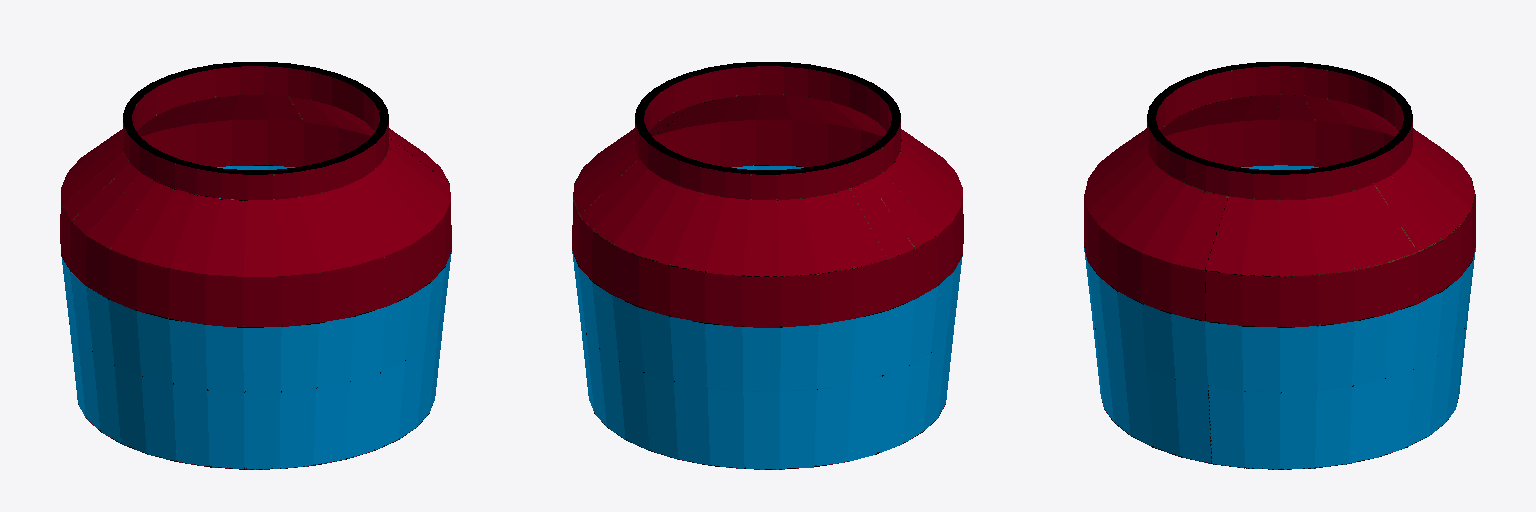
3 views of the same model, side by side, from view 1: azimuth 30°, elevation 25°; view 2: azimuth 150°, elevation 25°; view 3: azimuth 270°, elevation 25° (orthographic).
Parts seen in each view (by area): view 1: Circle; view 2: Circle; view 3: Circle.
Boxes of the visible parts, x1=… form: Circle: x1=60, y1=62, x2=451, y2=469; Circle: x1=572, y1=62, x2=963, y2=469; Circle: x1=1084, y1=62, x2=1475, y2=469.
Bounding box in the file's own units: 1.09 × 0.8489 × 1.09.
1 materials, 1 textured.